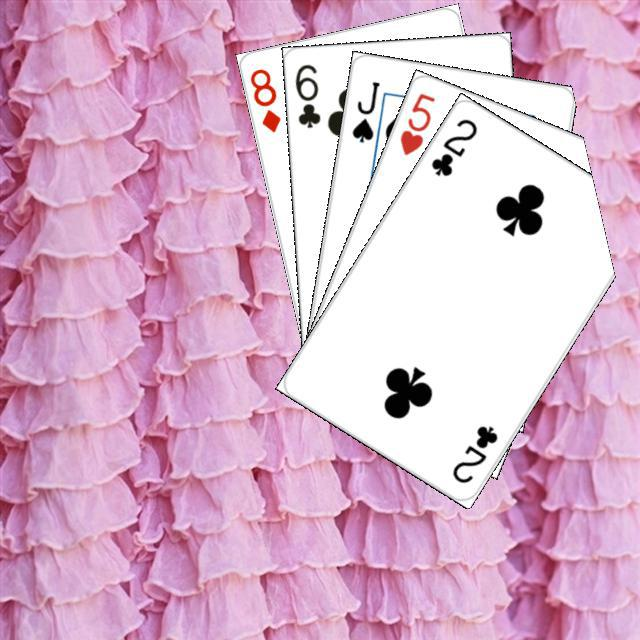2c: (426, 113, 480, 178), (447, 420, 500, 485)
5h: (395, 88, 437, 158)
6c: (290, 59, 322, 130)
8d: (245, 63, 283, 134)
Js: (347, 76, 381, 144)
